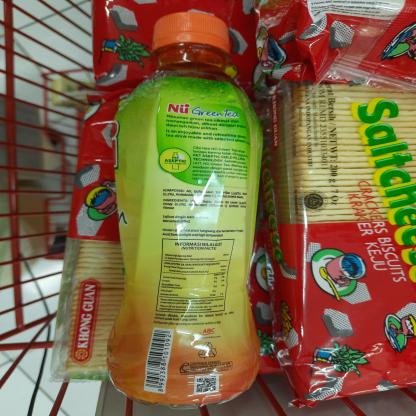bottle: (101, 8, 269, 409)
